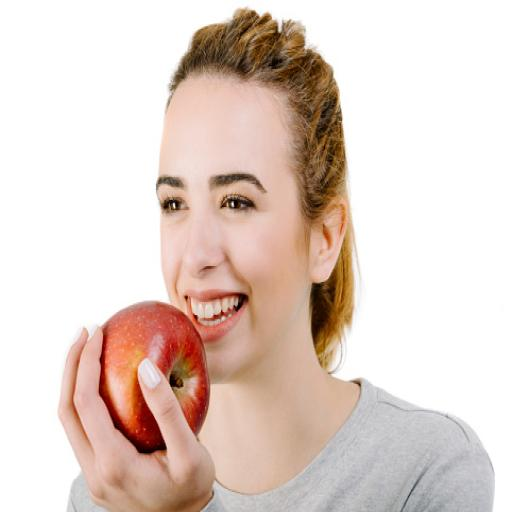apple: (99, 301, 210, 453)
